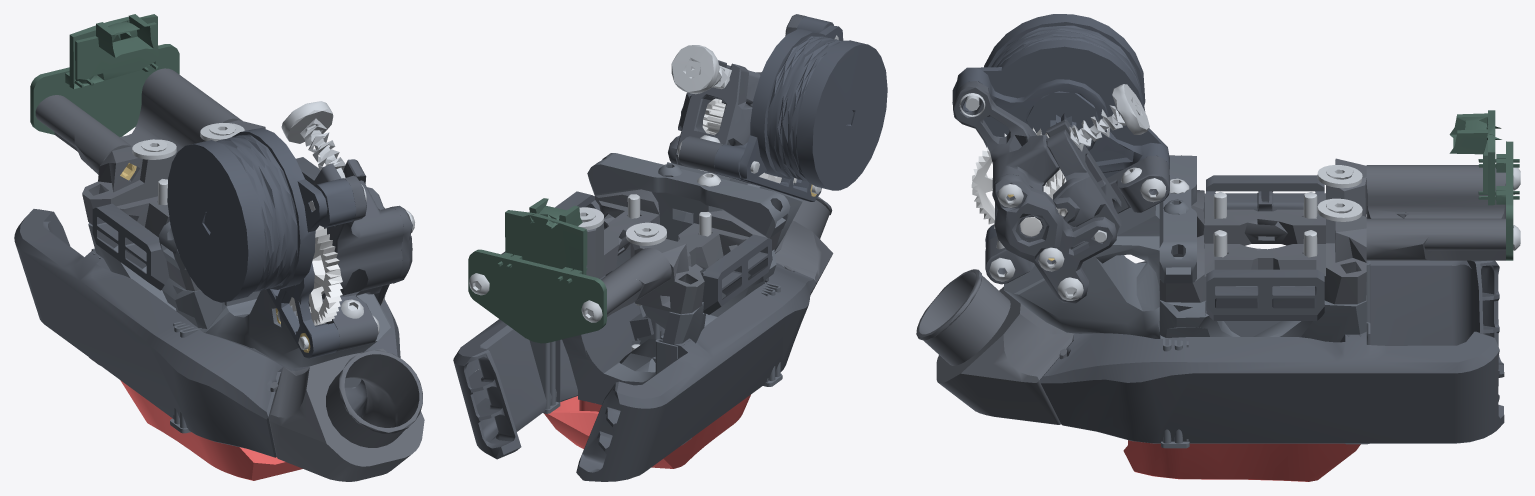
The picture shows the model from 3 angles, left to right: view 1: azimuth 30°, elevation 25°; view 2: azimuth 150°, elevation 25°; view 3: azimuth 270°, elevation 25°; orthographic projection. The views are drawn at different scales.
Parts seen in each view (by area): view 1: arch_breakneck_duct, arch_motor, arch_cpap_inlet, arch_beacon_mount, arch_sherpa_housing, arch_beacon_pcb_96, arch_extruder_block, arch_mgn12_mount, arch_beacon_pcb, arch_motor_53, arch_fan_cover_128, arch_belt_clips_15 (+9 smaller); view 2: arch_breakneck_duct, arch_motor, arch_beacon_pcb, arch_extruder_block_73, arch_hotend_core_77, arch_mgn12_mount, arch_beacon_pcb_96, arch_sherpa_housing_54, arch_mgn12_mount_13, arch_fan_cover_128, arch_belt_clips_15, arch_cpap_inlet (+11 smaller); view 3: arch_breakneck_duct, arch_cpap_inlet, arch_motor, arch_beacon_mount, arch_extruder_block, arch_sherpa_housing, arch_fan_cover_128, arch_mgn12_mount_13, arch_sherpa_housing_52, arch_belt_clips, arch_mgn12_mount, arch_hotend_core_77 (+9 smaller).
Boxes of the visible parts, x1,y1,x2,y2 form: arch_breakneck_duct: [14, 209, 400, 457]; arch_motor: [167, 128, 327, 302]; arch_cpap_inlet: [268, 348, 424, 481]; arch_beacon_mount: [35, 68, 242, 174]; arch_sherpa_housing: [308, 175, 403, 351]; arch_beacon_pcb_96: [69, 14, 158, 88]; arch_extruder_block: [203, 289, 390, 368]; arch_mgn12_mount: [82, 146, 199, 291]; arch_beacon_pcb: [30, 44, 179, 136]; arch_motor_53: [266, 178, 356, 358]; arch_fan_cover_128: [120, 380, 302, 480]; arch_belt_clips_15: [92, 203, 169, 290]; arch_breakneck_duct: [453, 263, 815, 481]; arch_motor: [739, 25, 887, 190]; arch_beacon_pcb: [468, 249, 606, 343]; arch_extruder_block_73: [587, 153, 790, 237]; arch_hotend_core_77: [562, 228, 776, 404]; arch_mgn12_mount: [630, 210, 781, 314]; arch_beacon_pcb_96: [505, 198, 587, 274]; arch_sherpa_housing_54: [675, 60, 752, 167]; arch_mgn12_mount_13: [586, 189, 660, 278]; arch_fan_cover_128: [544, 395, 750, 468]; arch_belt_clips_15: [701, 234, 771, 314]; arch_cpap_inlet: [775, 196, 833, 295]; arch_breakneck_duct: [1039, 260, 1504, 443]; arch_cpap_inlet: [916, 269, 1073, 424]; arch_motor: [957, 14, 1168, 178]; arch_beacon_mount: [1366, 165, 1505, 260]; arch_extruder_block: [1003, 203, 1167, 338]; arch_sherpa_housing: [953, 81, 1169, 284]; arch_fan_cover_128: [1123, 440, 1360, 481]; arch_mgn12_mount_13: [1159, 210, 1366, 304]; arch_sherpa_housing_52: [992, 174, 1117, 303]; arch_belt_clips: [1206, 269, 1324, 320]; arch_mgn12_mount: [1191, 158, 1366, 245]; arch_hotend_core_77: [1159, 286, 1366, 342].
Bounding box in the file's own units: 0.0597 × 0.0939 × 0.1341.
